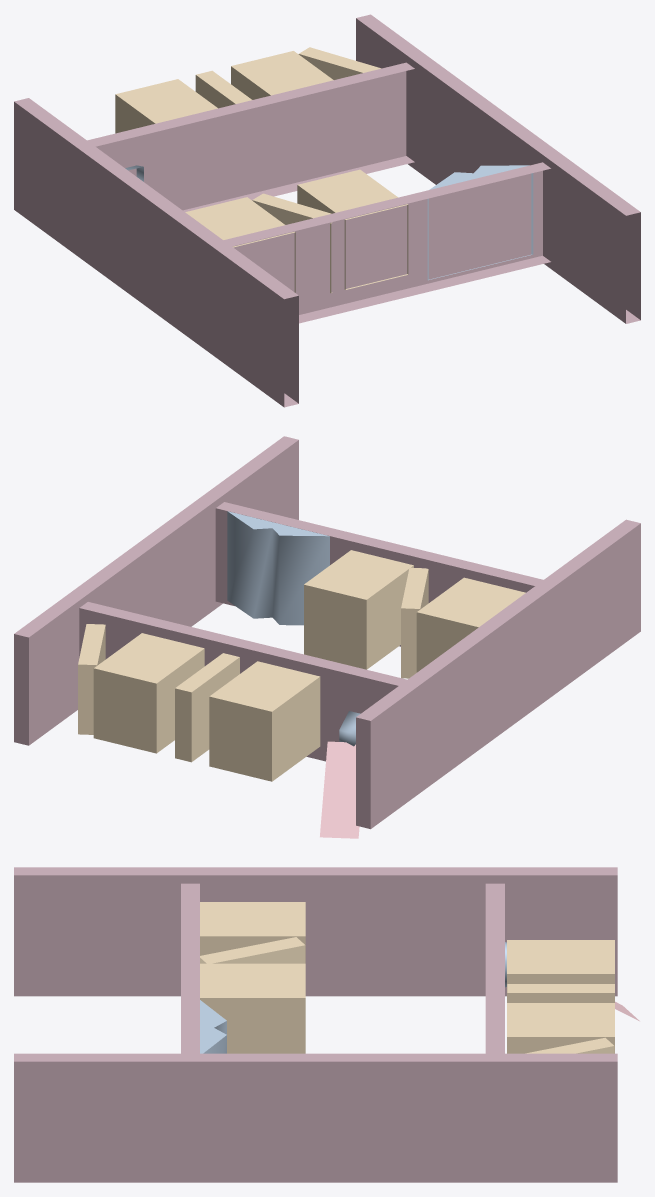
The picture shows the model from 3 angles, top to bottom: view 1: azimuth 30°, elevation 25°; view 2: azimuth 150°, elevation 25°; view 3: azimuth 270°, elevation 25°; orthographic projection. The views are drawn at different scales.
Visible parts, largest first — view 1: Object96; view 2: Object96; view 3: Object96.
Boxes of the visible parts, x1,y1,x2,y2 form: Object96: (14,14,640,407); Object96: (14,436,640,838); Object96: (14,867,639,1182).
Bounding box in the file's own units: 16018 × 5092 × 21814.
